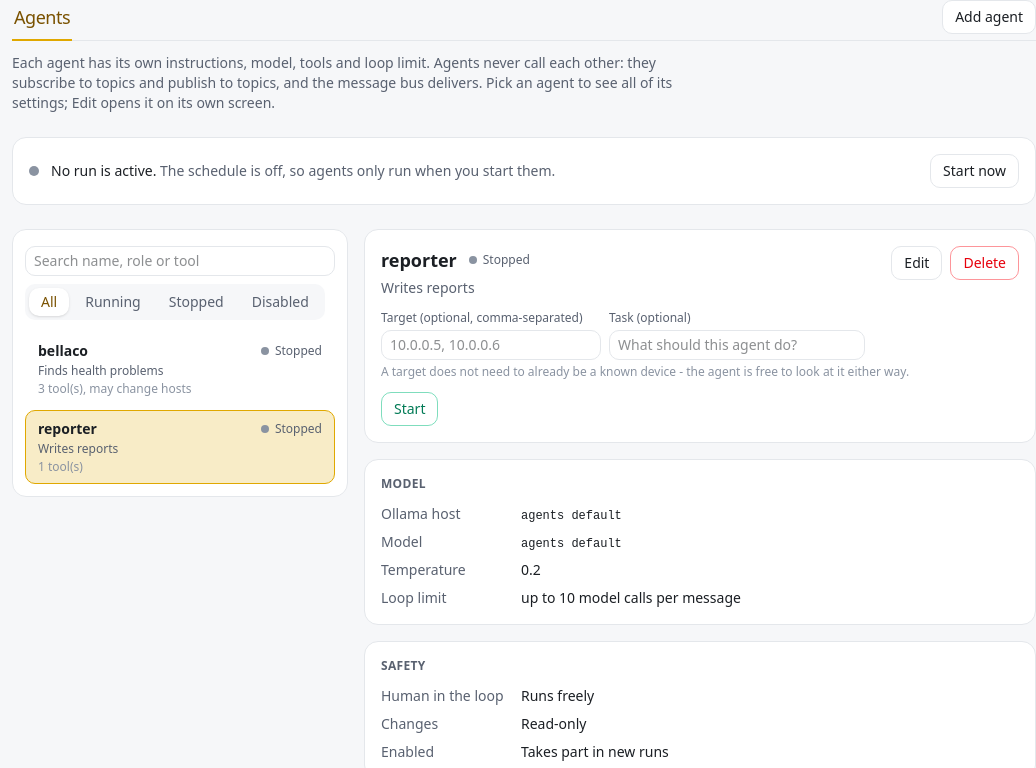
Test: AgentsPage › deletes the selected agent after confirmation and returns to the list
Step 1. Click the button "Delete" → (985, 263), box [950,246,1019,280]
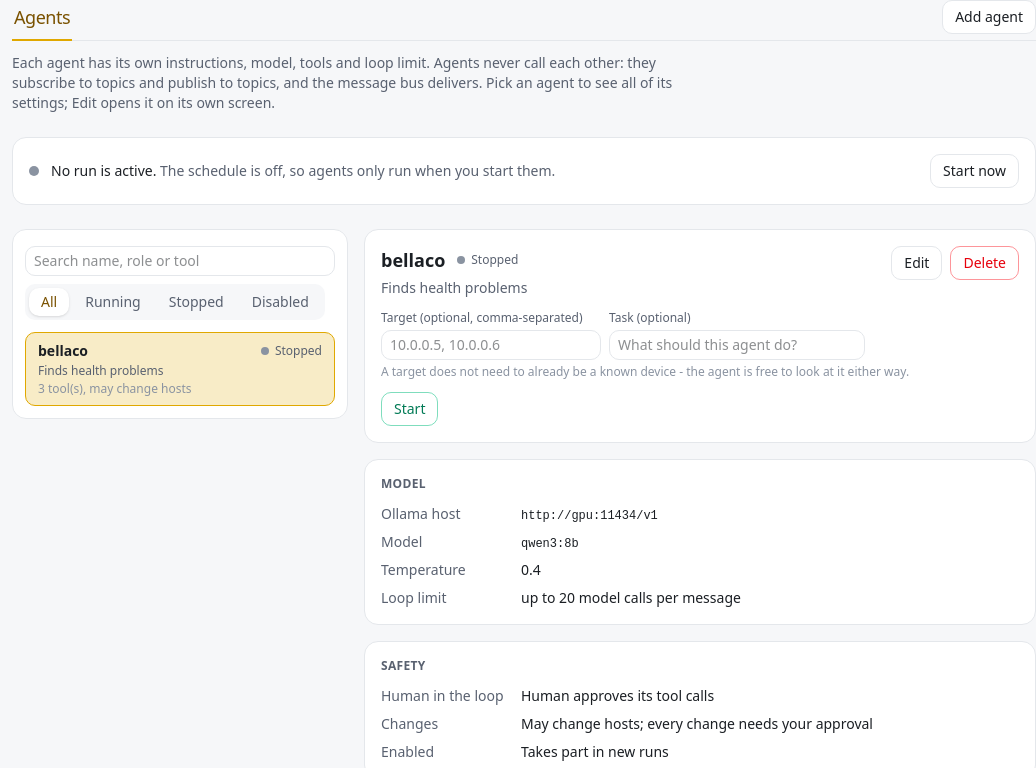
expect the heading "bellaco" is shown: met, box [381,246,445,274]
